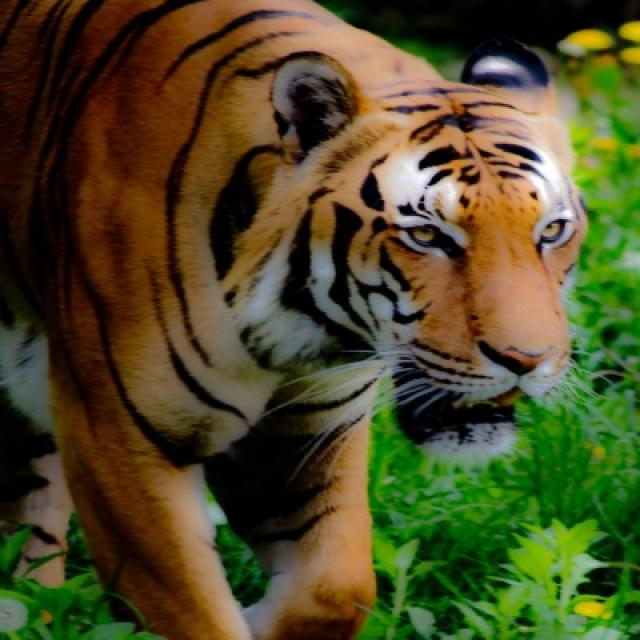Tiger: (9, 0, 595, 636)
